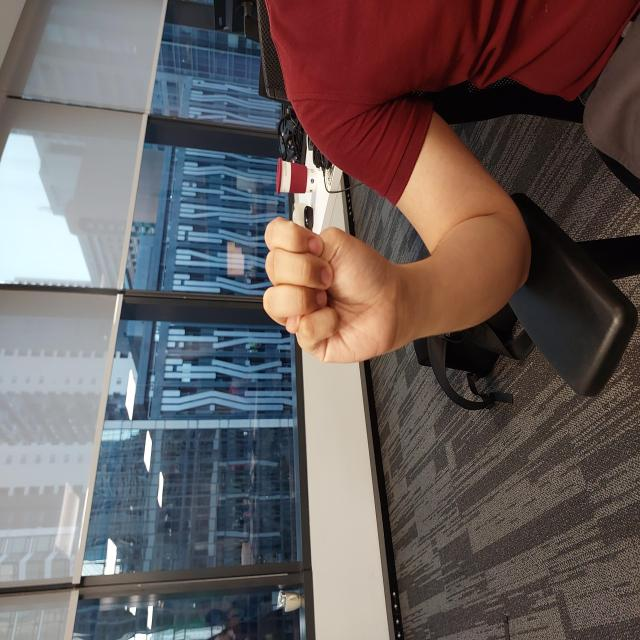M: (272, 260, 427, 409)
